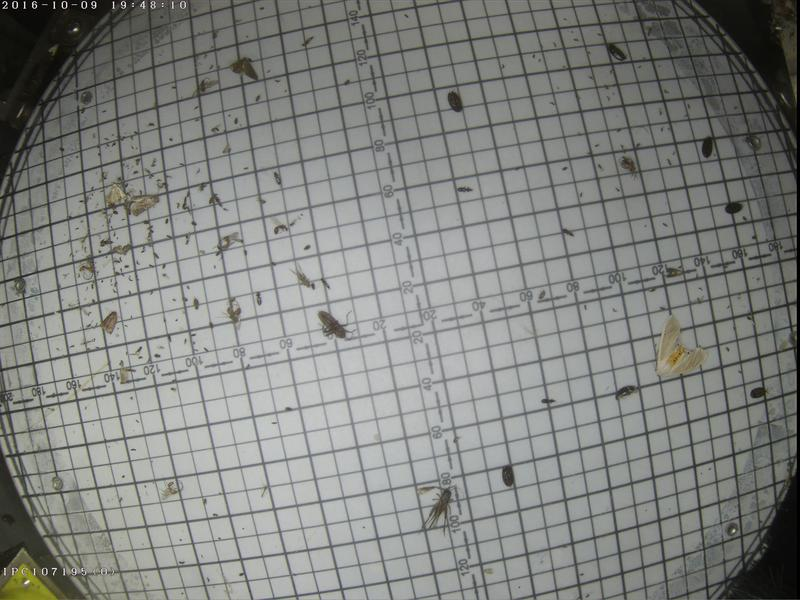Rice Leaf Roller: (103, 179, 126, 202)
